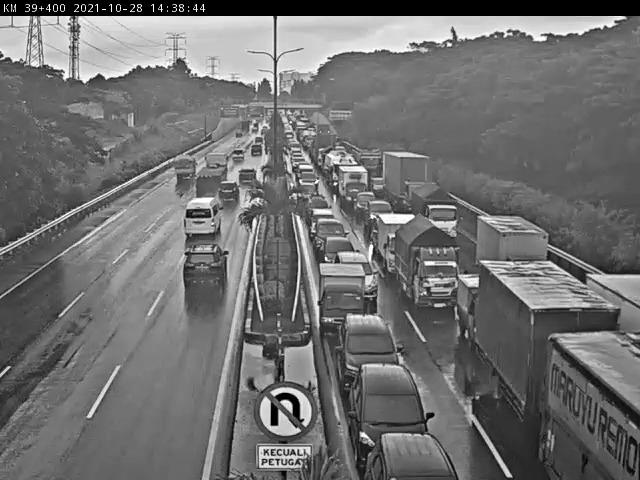big truck: (479, 259, 626, 446), (193, 151, 231, 189)
car: (349, 364, 436, 463), (335, 314, 399, 398), (363, 433, 460, 480), (180, 242, 229, 296), (335, 252, 380, 302), (319, 236, 360, 277), (183, 196, 223, 238), (312, 218, 350, 257), (367, 199, 395, 231), (309, 207, 334, 237), (355, 191, 376, 216), (236, 167, 258, 187), (217, 182, 238, 202), (229, 151, 244, 166)
small truck: (393, 215, 462, 312), (477, 215, 547, 297), (458, 274, 521, 351), (317, 261, 369, 337), (377, 212, 420, 277), (380, 151, 426, 210), (409, 178, 451, 238), (339, 165, 369, 207), (172, 152, 196, 182)
